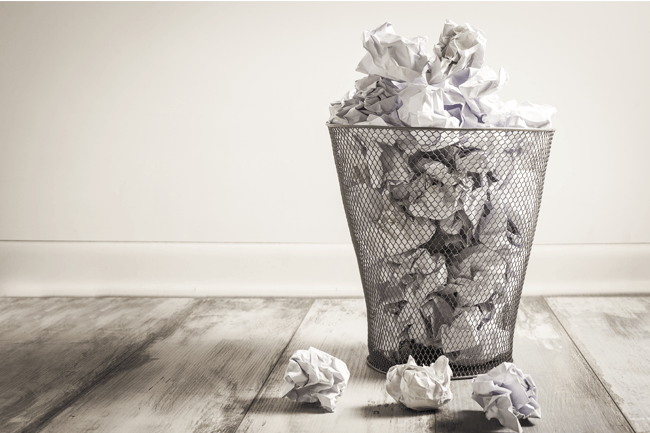paper: (259, 330, 363, 430), (468, 335, 562, 433), (368, 343, 463, 430)
